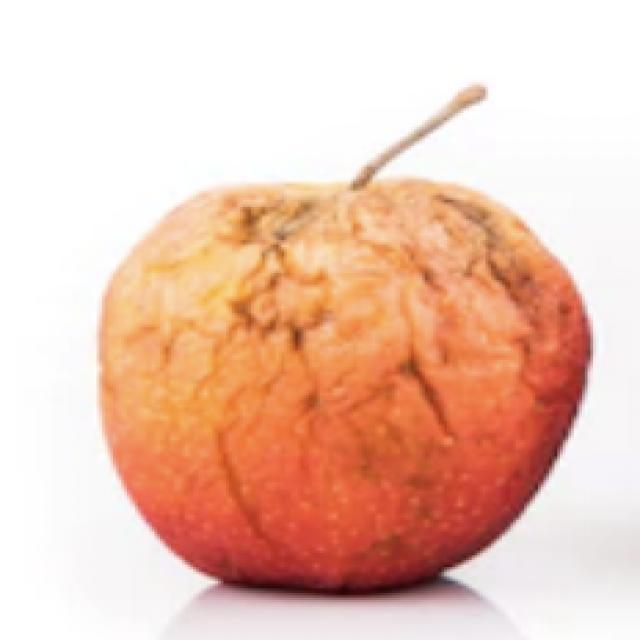Rotten: (112, 175, 593, 593)
